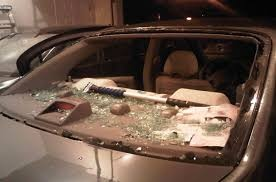Broken-glass: (18, 32, 264, 148)
